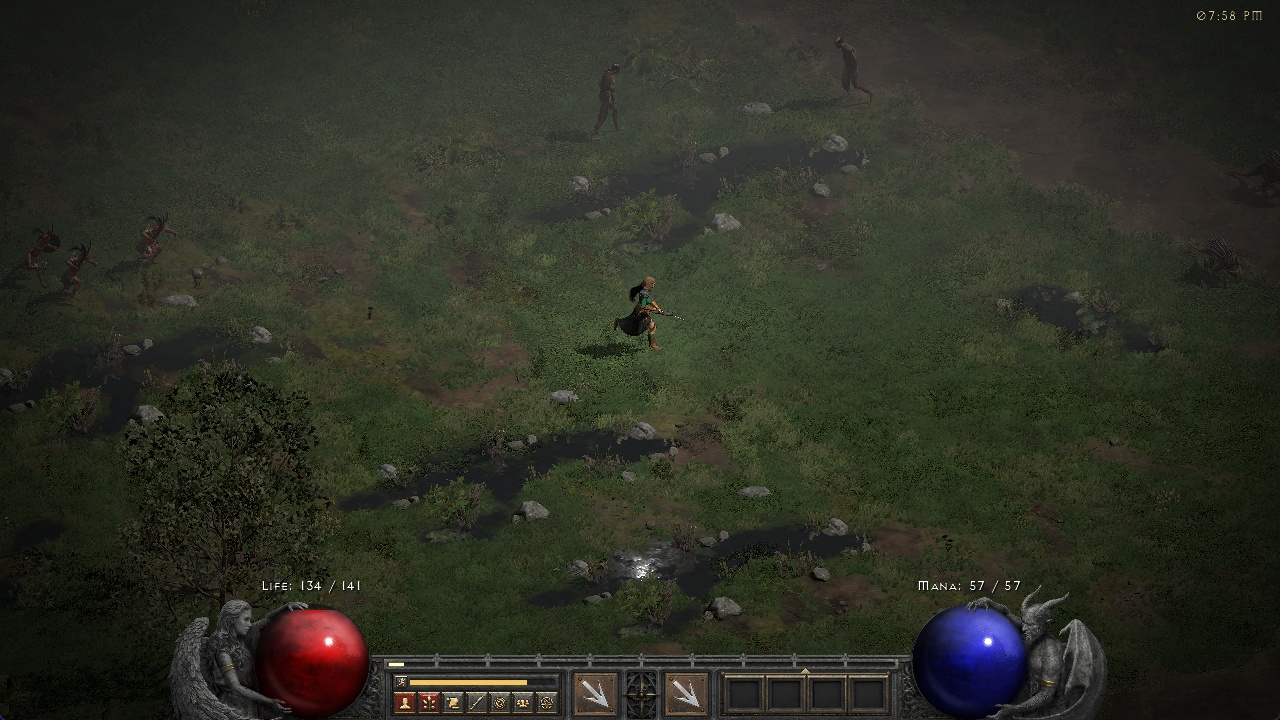fallen: (132, 212, 175, 271), (15, 228, 54, 291), (62, 241, 102, 297)
